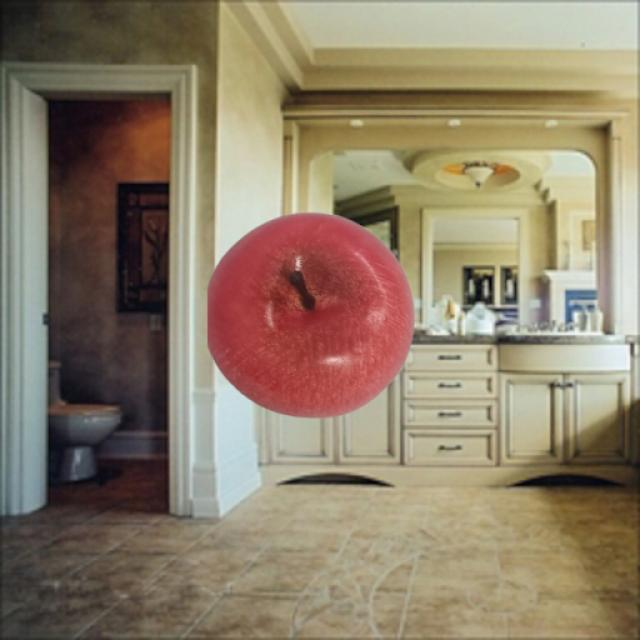apple: (207, 212, 415, 417)
